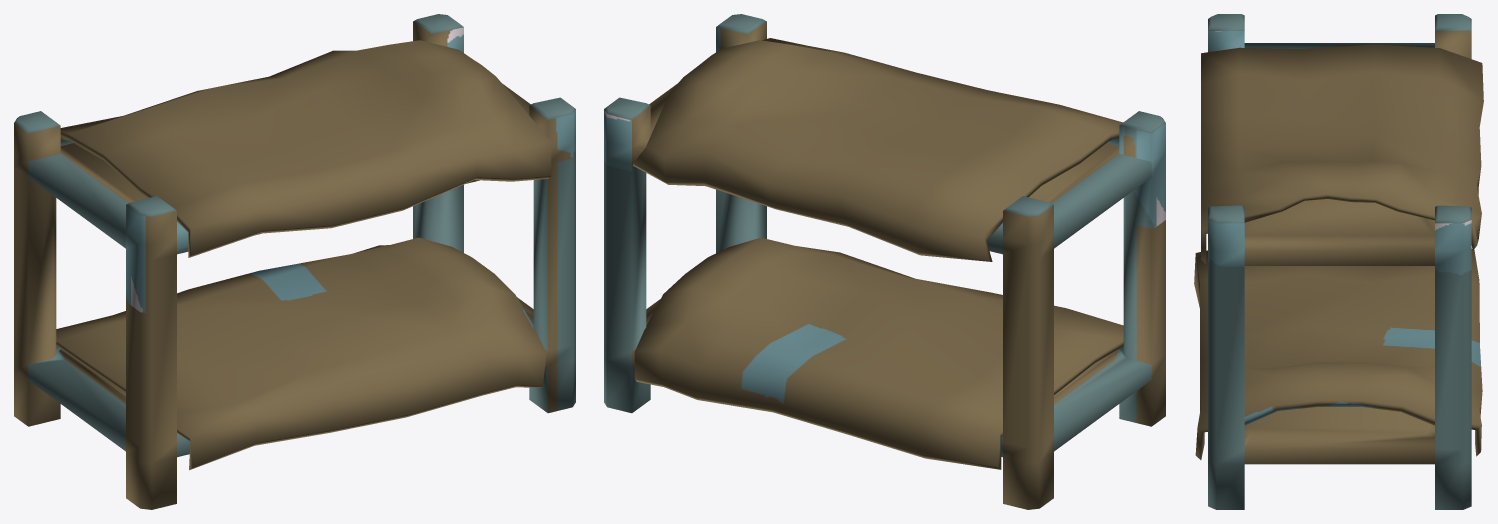
Rendered from bed.fbx.
3 views of the same model, side by side, from view 1: azimuth 30°, elevation 25°; view 2: azimuth 150°, elevation 25°; view 3: azimuth 270°, elevation 25° (orthographic). The views are drawn at different scales.
Parts seen in each view (by area): view 1: Plane; view 2: Plane; view 3: Plane.
Boxes of the visible parts, x1=… form: Plane: x1=14, y1=14, x2=575, y2=509; Plane: x1=604, y1=14, x2=1165, y2=509; Plane: x1=1194, y1=14, x2=1483, y2=509.
Size of the model in its own units: 294 by 200 by 173.
